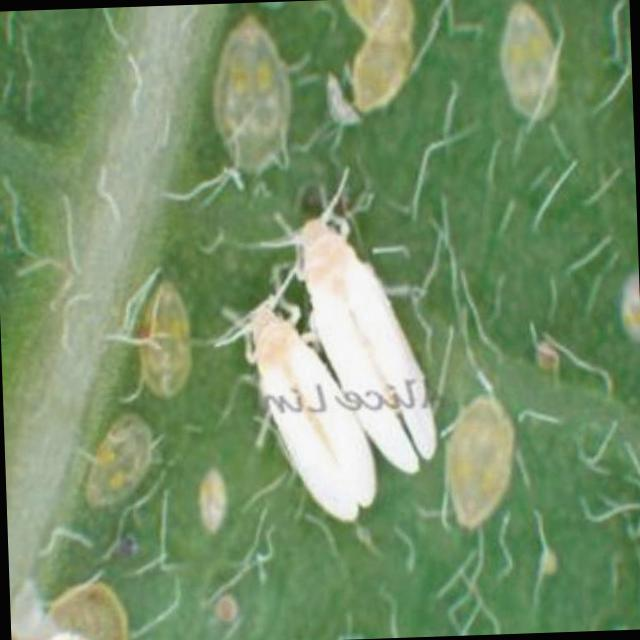Silverleaf whitefly: (286, 176, 434, 484), (214, 281, 377, 557)
